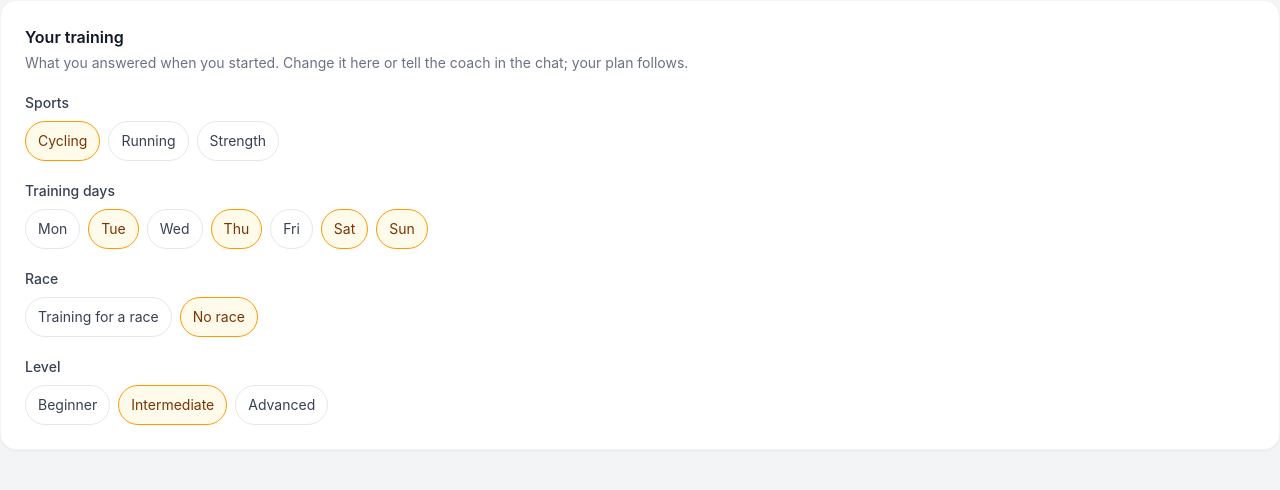
TrainingAnswersSettings (ai-trainer-ops#202) › adds a sport and saves it with the profile write the chat offer makes
What coordinates should you click on to do the following:
click the button "Running"
I would click on:
 (149, 141)
Its box is [108,121,189,161].
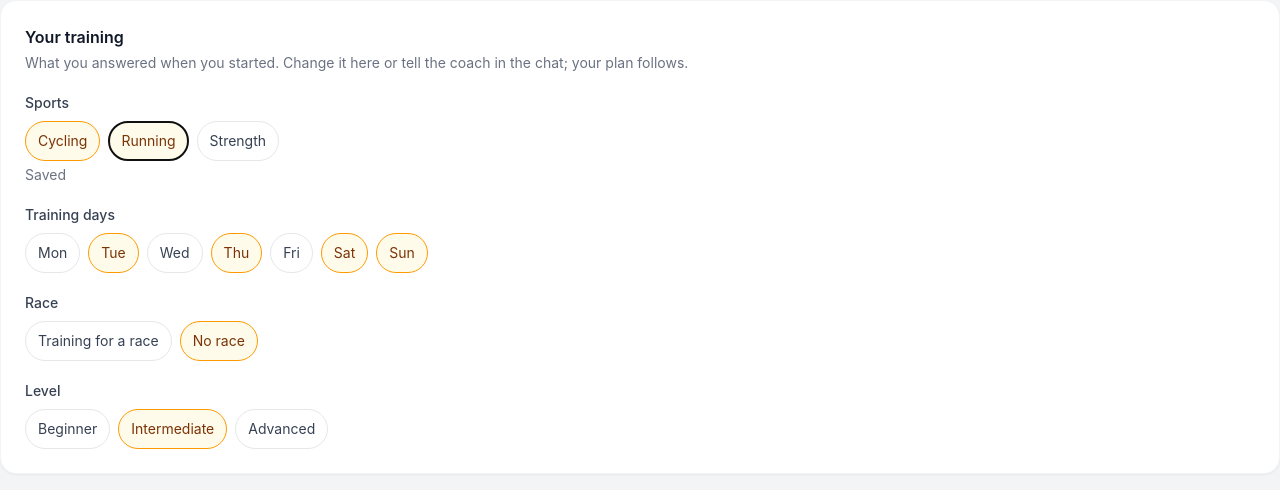
expect the text "Saved" is shown: met, box [25,166,66,183]
